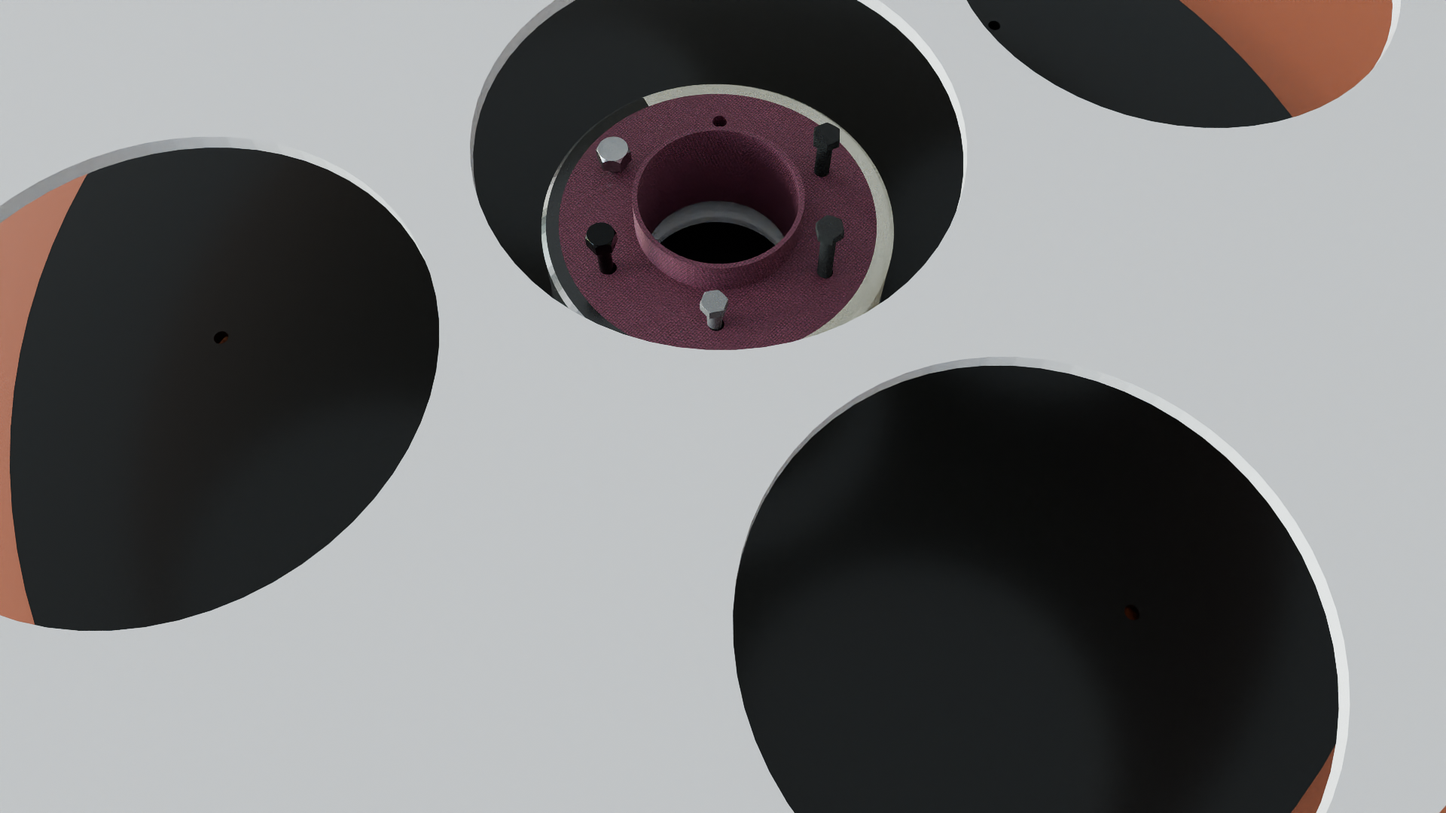bolt: (596, 136, 630, 163), (585, 222, 617, 248), (816, 215, 844, 239), (700, 290, 728, 314), (814, 123, 840, 146)
